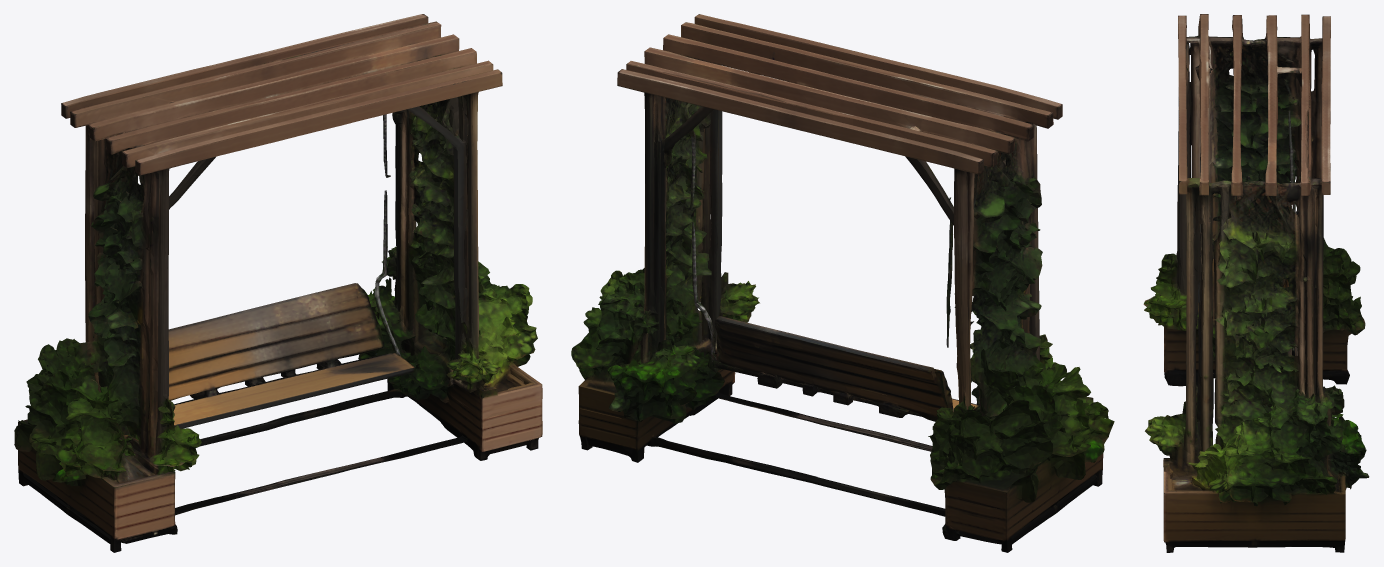
File: swing-pergola-flowerbox.glb
3 views of the same model, side by side, from view 1: azimuth 30°, elevation 25°; view 2: azimuth 150°, elevation 25°; view 3: azimuth 270°, elevation 25° (orthographic). The views are drawn at different scales.
Parts seen in each view (by area): view 1: world; view 2: world; view 3: world.
Part boxes in pixels (<box>): world: <box>14,14,542,552</box>; world: <box>571,14,1114,552</box>; world: <box>1143,14,1369,552</box>.
Bounding box in the file's own units: 1 × 0.7446 × 0.4247.
1 material, 1 textured.
